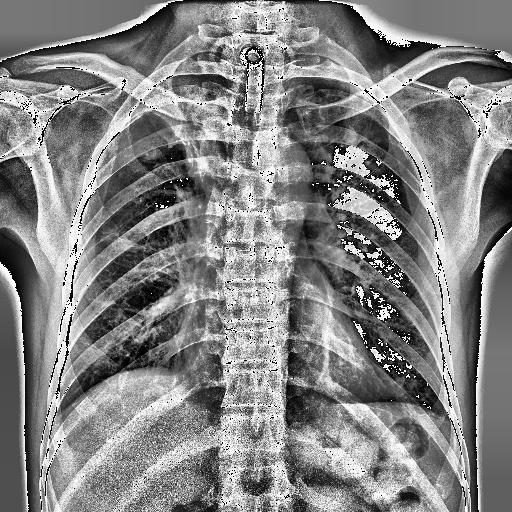1- Atelectasis: (146, 62, 230, 197), (132, 60, 214, 158)
11- Pleural thickening: (128, 54, 234, 184), (281, 57, 390, 112)
13- Pulmonary fibrosis: (76, 186, 199, 266), (309, 102, 397, 190), (317, 122, 394, 202), (333, 125, 400, 199), (316, 276, 342, 400), (99, 227, 144, 254)
3- Cardiomegaly: (178, 341, 376, 419)
7- Lung Opacity: (128, 54, 234, 184)
9- Other lesion: (282, 374, 330, 434)
